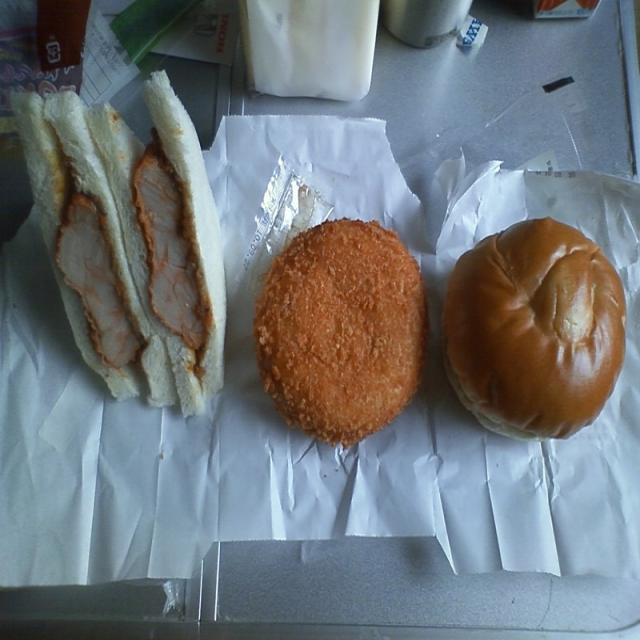三明治: (6, 65, 233, 412), (245, 206, 438, 465), (436, 213, 626, 459)
